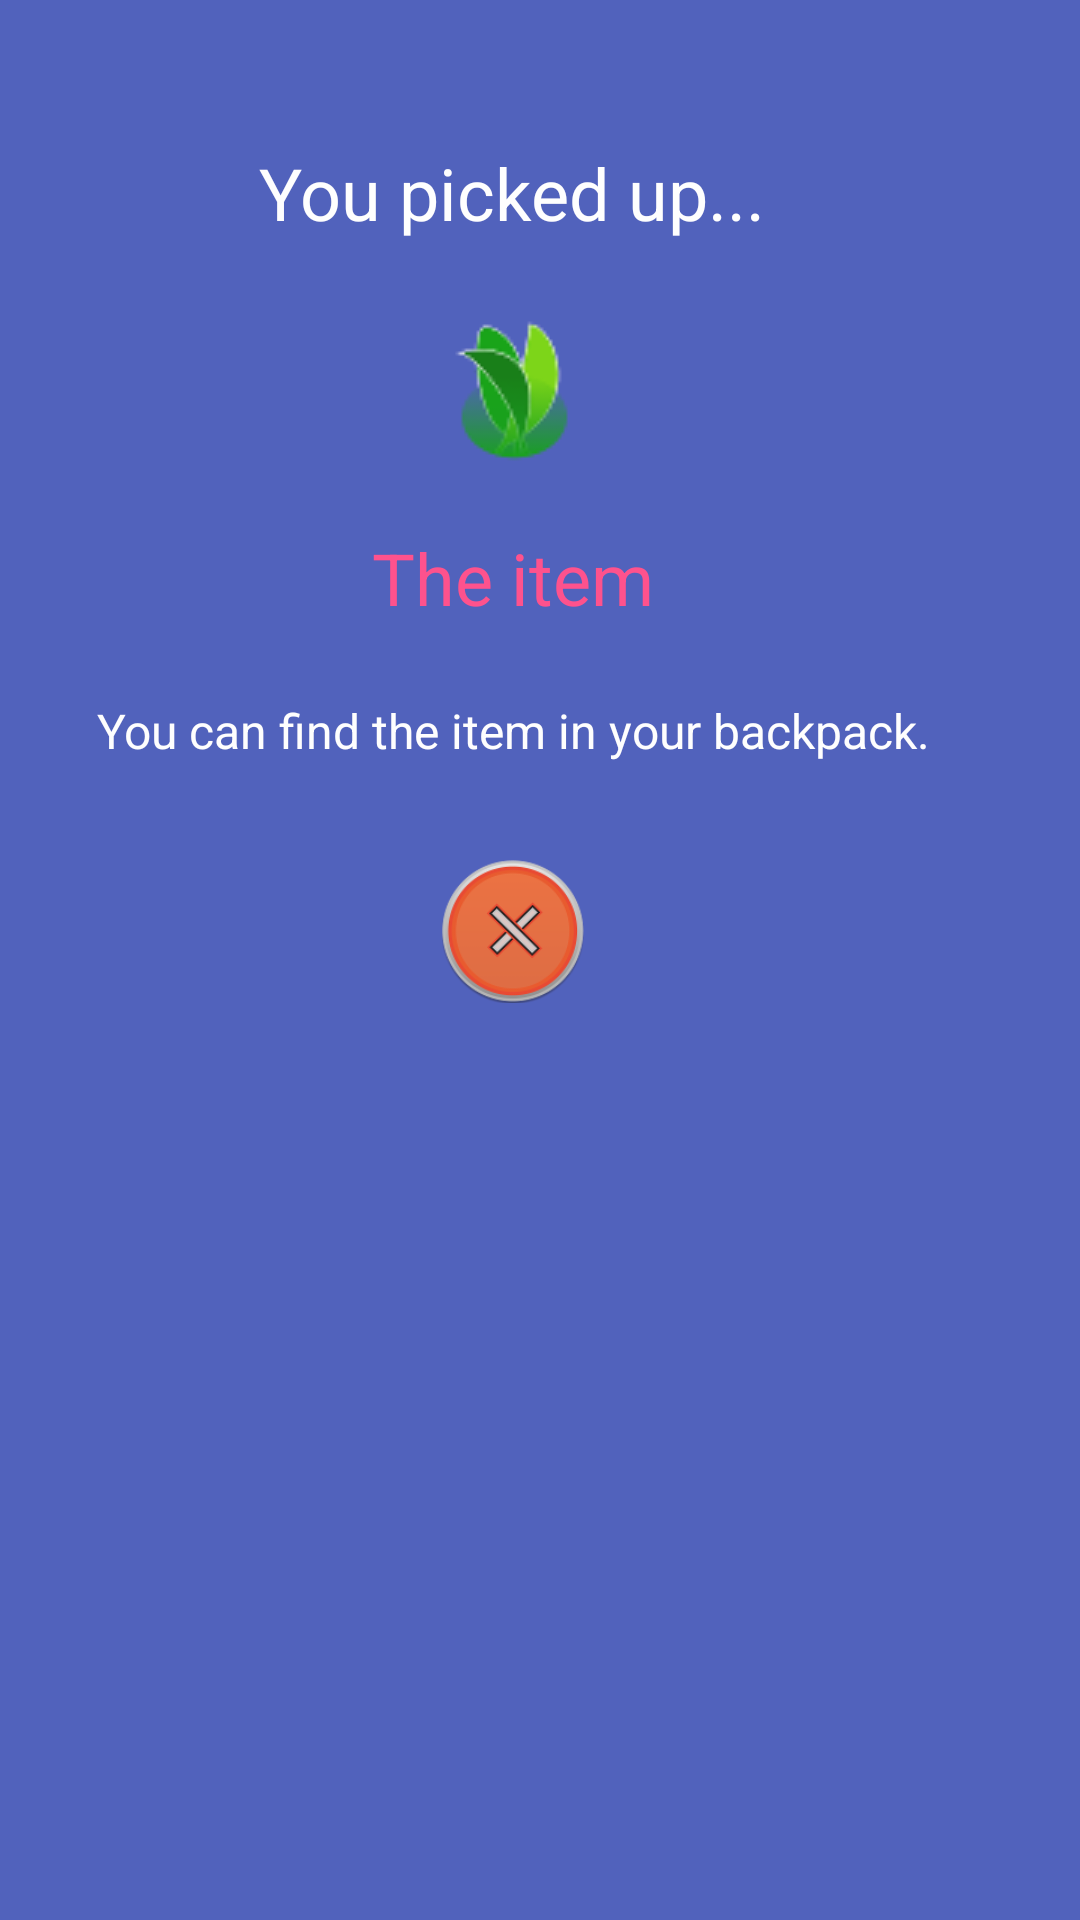

Where icons sit on this 1080px x 1920px app screen, as (x1, y1, x2, y2):
close: (442, 860, 584, 1003)
